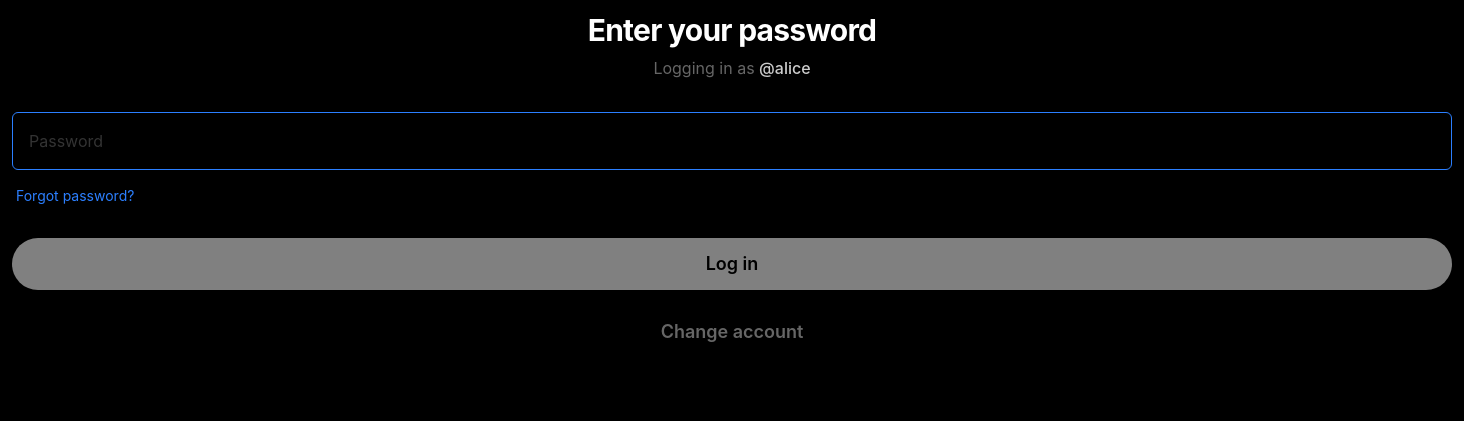
it: LoginView › surfaces a rejected password and keeps the user on the step
This screenshot has width=1464, height=421.
Type "wrong-password" into the password field with placeholder "Password" at (732, 141), box [12,112,1452,170]
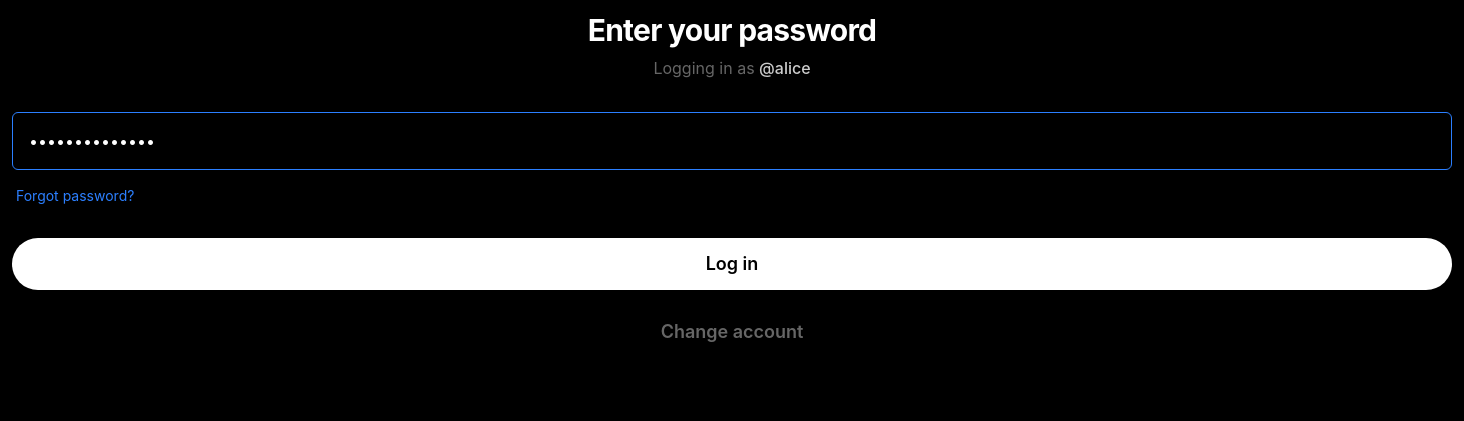
Click the button "Log in" at (732, 264), box [12,238,1452,290]
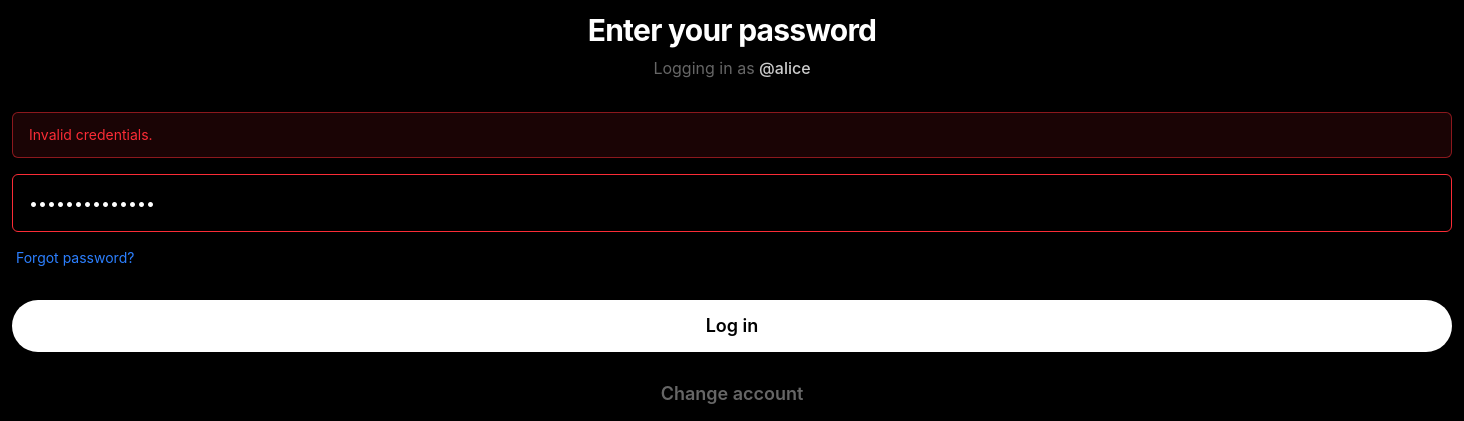
Now the text "Invalid credentials." is shown, box [12,112,1452,158]
